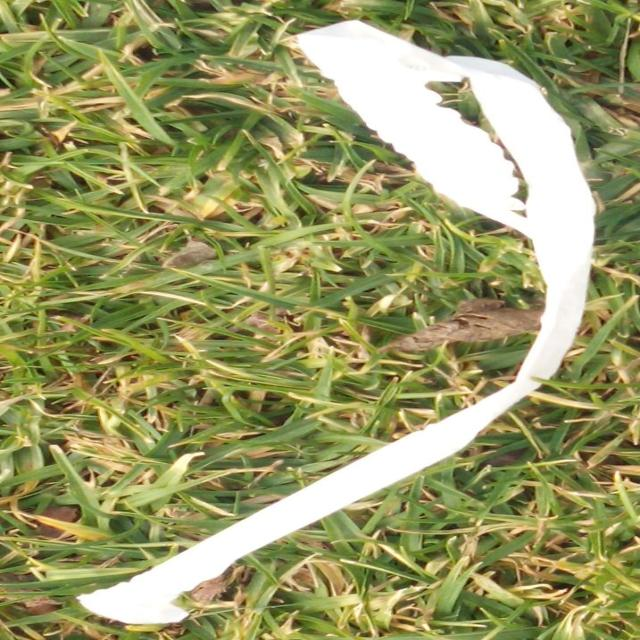litter: (45, 5, 625, 628)
